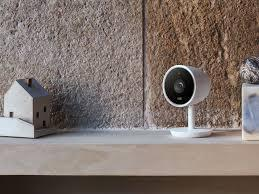tutu: (158, 58, 220, 118)
